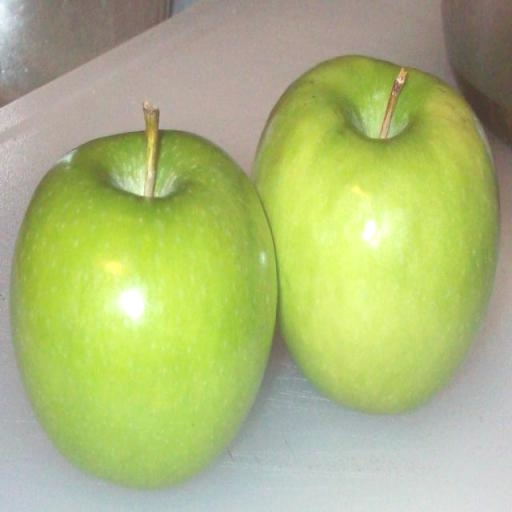fruit: (10, 132, 275, 487), (254, 56, 498, 412)
